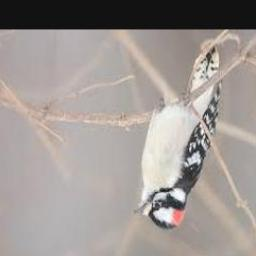Woodpecker: (134, 45, 222, 230)
